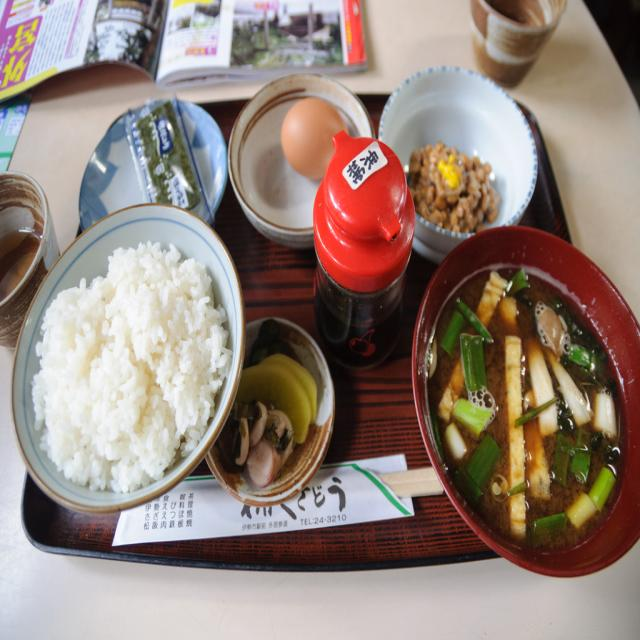Egg: (281, 95, 348, 182)
